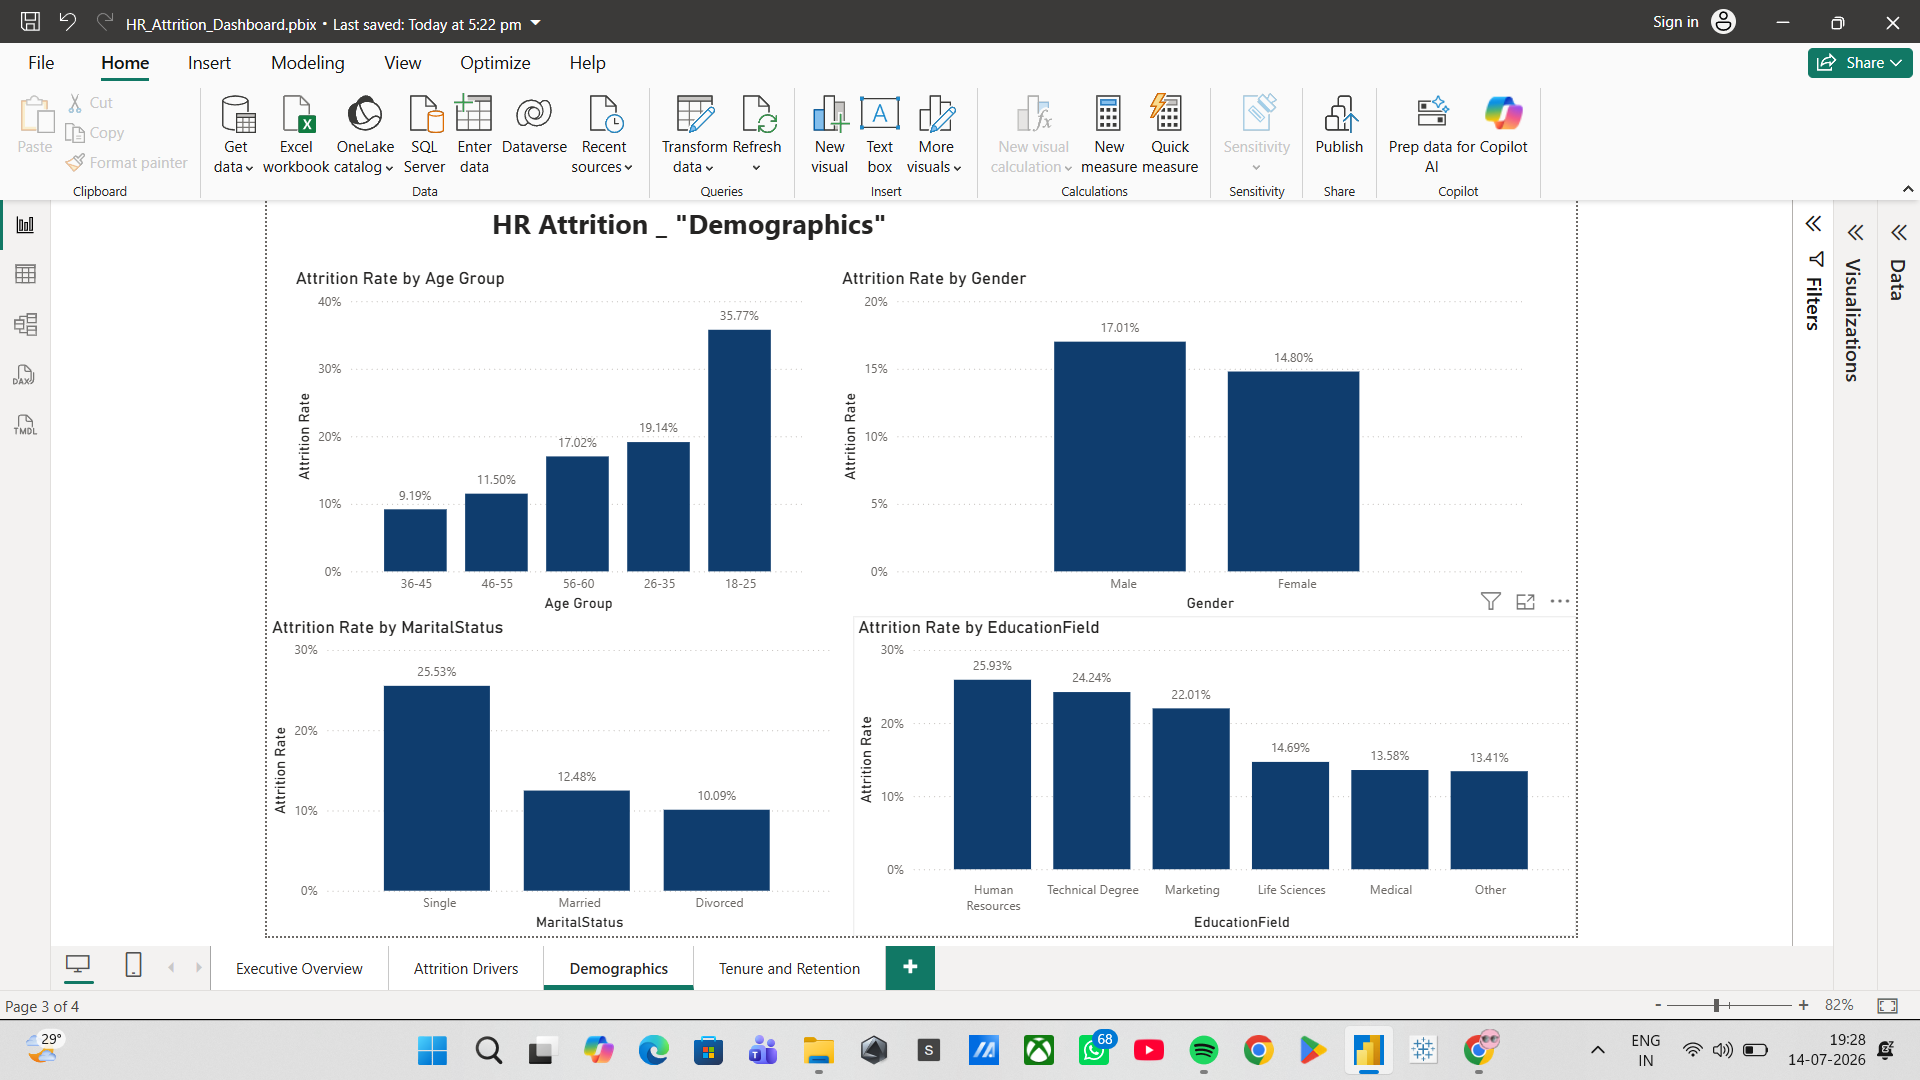

The dashboard page shown, as its layout file describes it:
{"tool":"powerbi","page":{"name":"Demographics","canvas":[1280,720],"ordinal":2},"visuals":[{"type":"clusteredColumnChart","fields":{"Category":["IBM DATA SET.Age Group"],"Y":["IBM DATA SET.Attrition Rate"]},"box":[23.8,66.2,508.8,341.2],"z":0},{"type":"clusteredColumnChart","fields":{"Category":["IBM DATA SET.Gender"],"Y":["IBM DATA SET.Attrition Rate"]},"box":[557.5,66.2,676.2,341.2],"z":1000},{"type":"clusteredColumnChart","fields":{"Category":["IBM DATA SET.MaritalStatus"],"Y":["IBM DATA SET.Attrition Rate"]},"box":[0,407.5,557.5,312.5],"z":2000},{"type":"clusteredColumnChart","fields":{"Category":["IBM DATA SET.EducationField"],"Y":["IBM DATA SET.Attrition Rate"]},"box":[573.8,407.5,706.2,312.5],"z":3000},{"type":"textbox","box":[215,0,440,47.5],"z":4000}]}

Visuals, with their boxes on the page's 1280x720 design canvas (x1, y1, x2, y2). These are canvas units, not pixel positions in the 1920x1080 screenshot, which may show the page scaled, cropped or inside an application window:
clusteredColumnChart - IBM DATA SET.Age Group x IBM DATA SET.Attrition Rate: crop(24, 66, 533, 407)
clusteredColumnChart - IBM DATA SET.Gender x IBM DATA SET.Attrition Rate: crop(558, 66, 1234, 407)
clusteredColumnChart - IBM DATA SET.MaritalStatus x IBM DATA SET.Attrition Rate: crop(0, 408, 558, 720)
clusteredColumnChart - IBM DATA SET.EducationField x IBM DATA SET.Attrition Rate: crop(574, 408, 1280, 720)
textbox: crop(215, 0, 655, 48)
